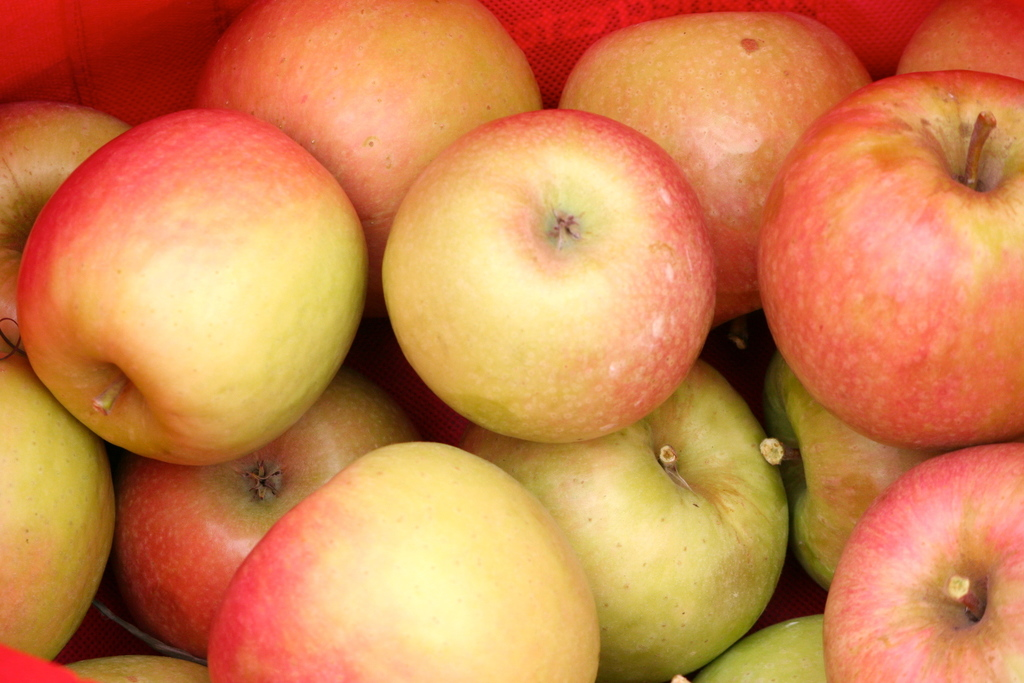Apple: (0, 0, 1023, 682), (382, 105, 725, 460)
